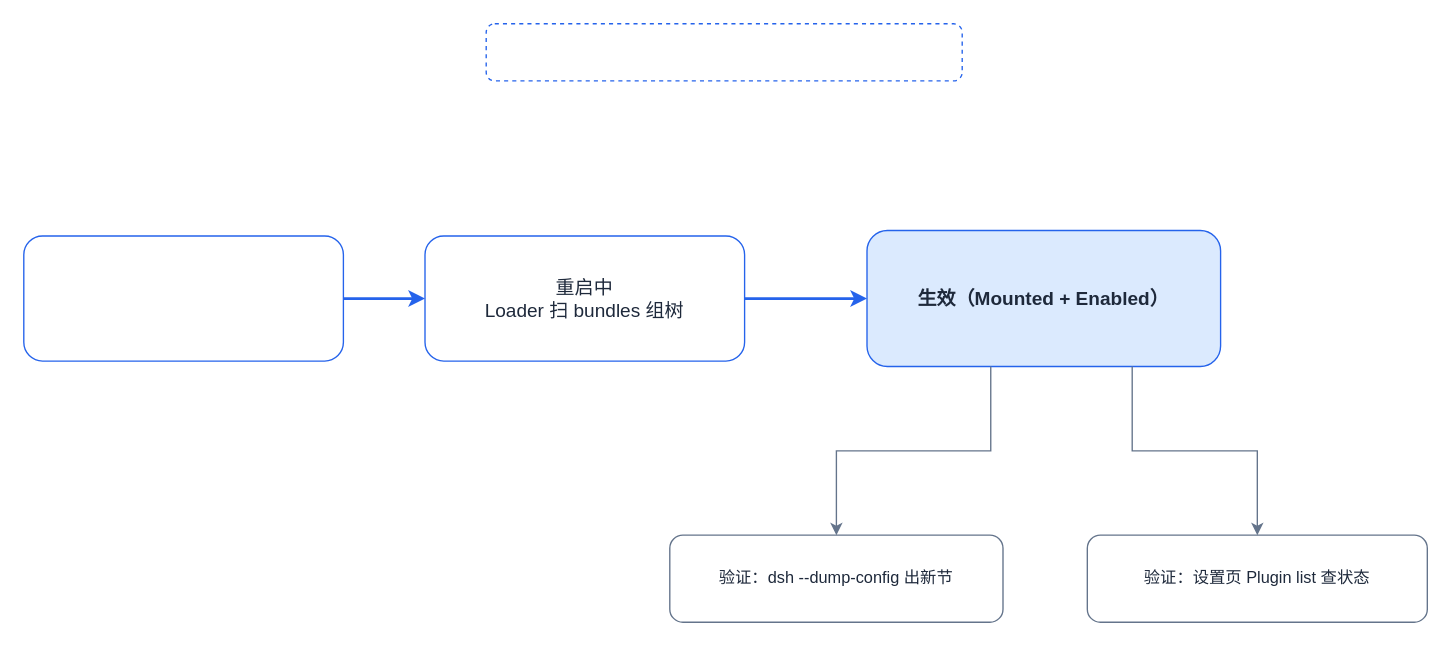
Some shapes in this 1451 by 646 pixel diagram are drawn without their labels. Here are the shapes that lost their labels. From the top down, the box of each, then its label:
(485, 22, 962, 81): 启动组装，不做运行时热插拔
(22, 235, 343, 361): 装完（仍在盘上） bundle 记录 + 依赖落位
